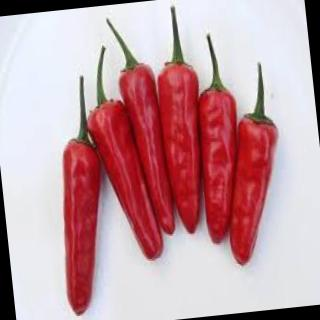Cabai Merah: (89, 99, 164, 261), (119, 62, 178, 234), (155, 60, 210, 238), (230, 100, 278, 266), (61, 139, 102, 316), (198, 83, 236, 244)
